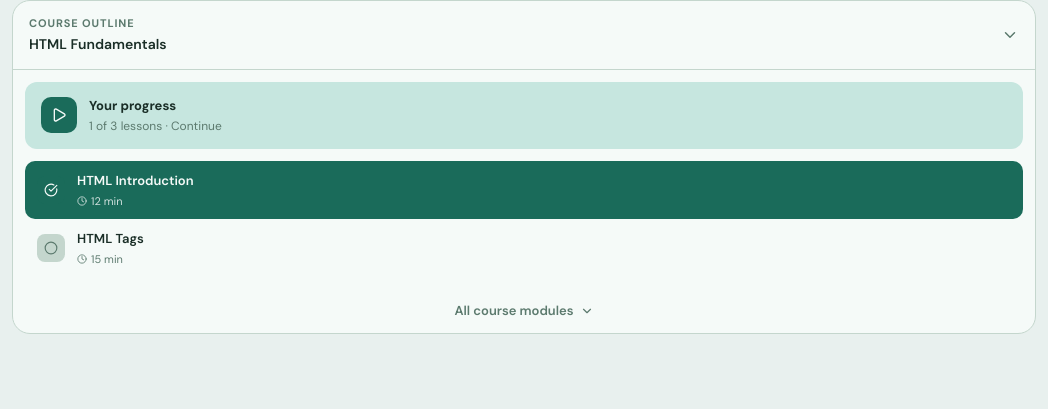
CourseOutline › shows all modules when All course modules is clicked
Expected: the text "Selectors" is not shown
Click the button "All course modules". click: point(524, 311)
box: [13,289,1035,332]
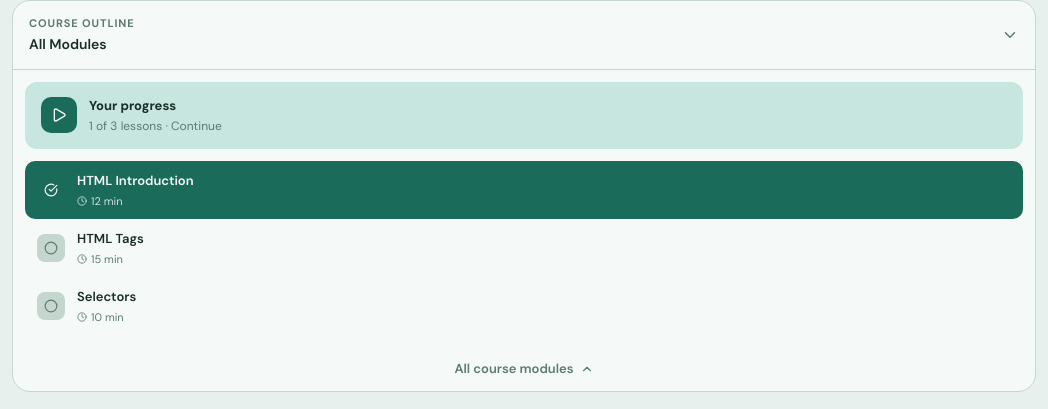
Expected: the text "Selectors" is shown, [77,288,136,305]
Expected: the text "All Modules" is shown, [29,34,107,52]
